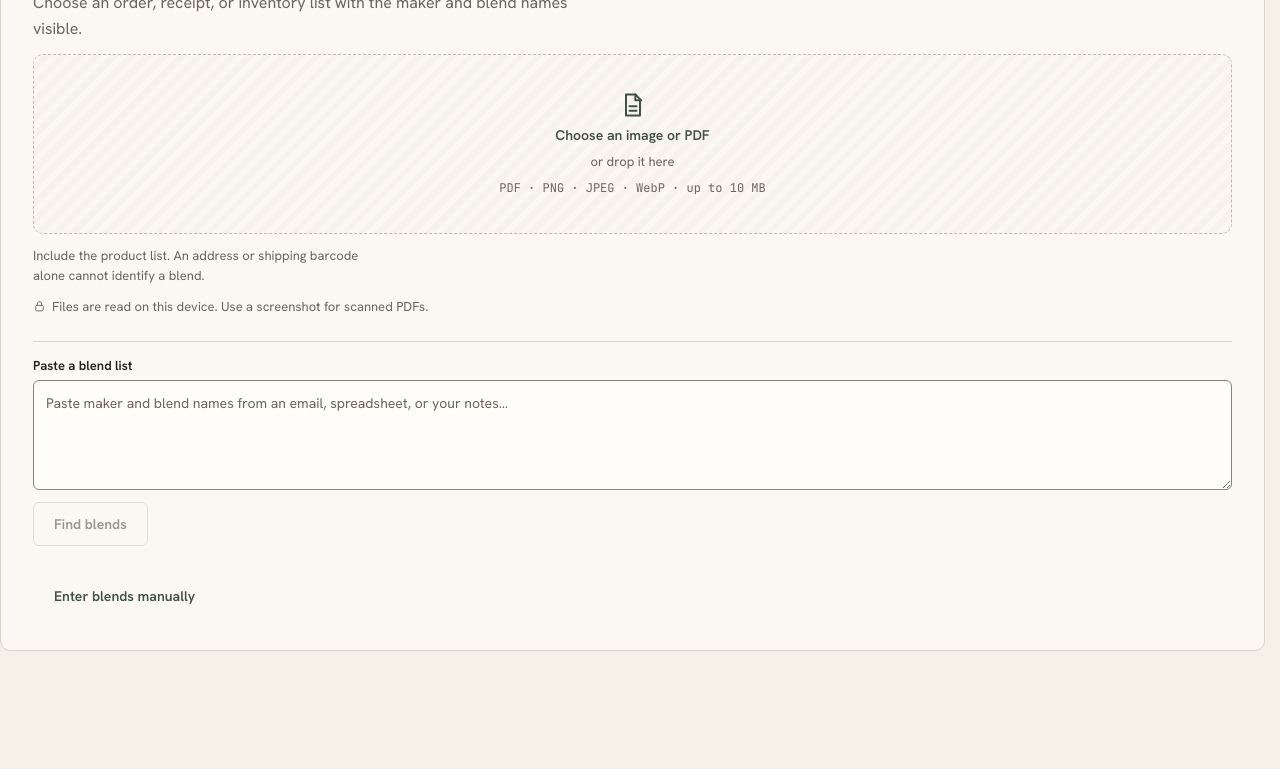
Scenario: opens standalone intake immediately and keeps missing custom names in review until Save
Check: the button "Choose an image or PDF" is shown, box [33, 54, 1232, 234]
Click the button "Enter blends manually": coordinates (125, 596) [33, 574, 216, 618]
(page scrolled)
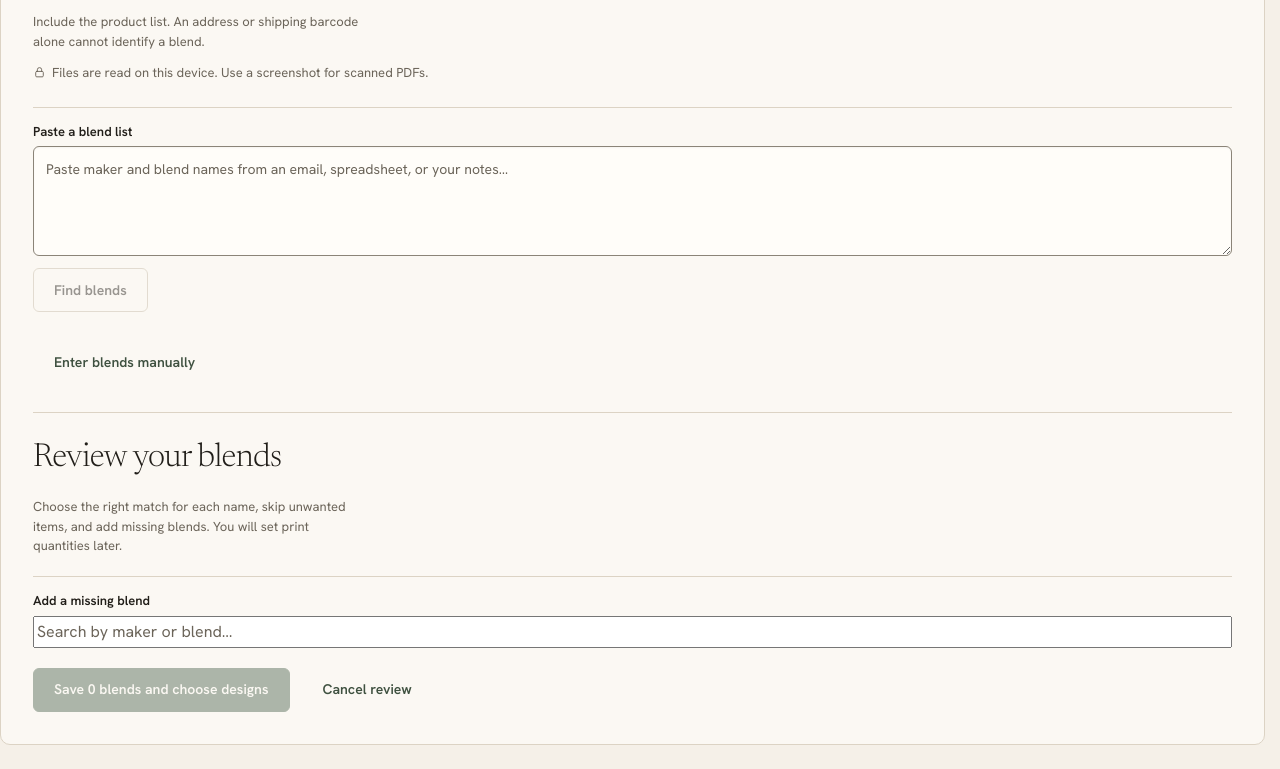
In the field labelled "Add a missing blend": coordinates (632, 632) [33, 616, 1232, 648], type "My cellar mixture"
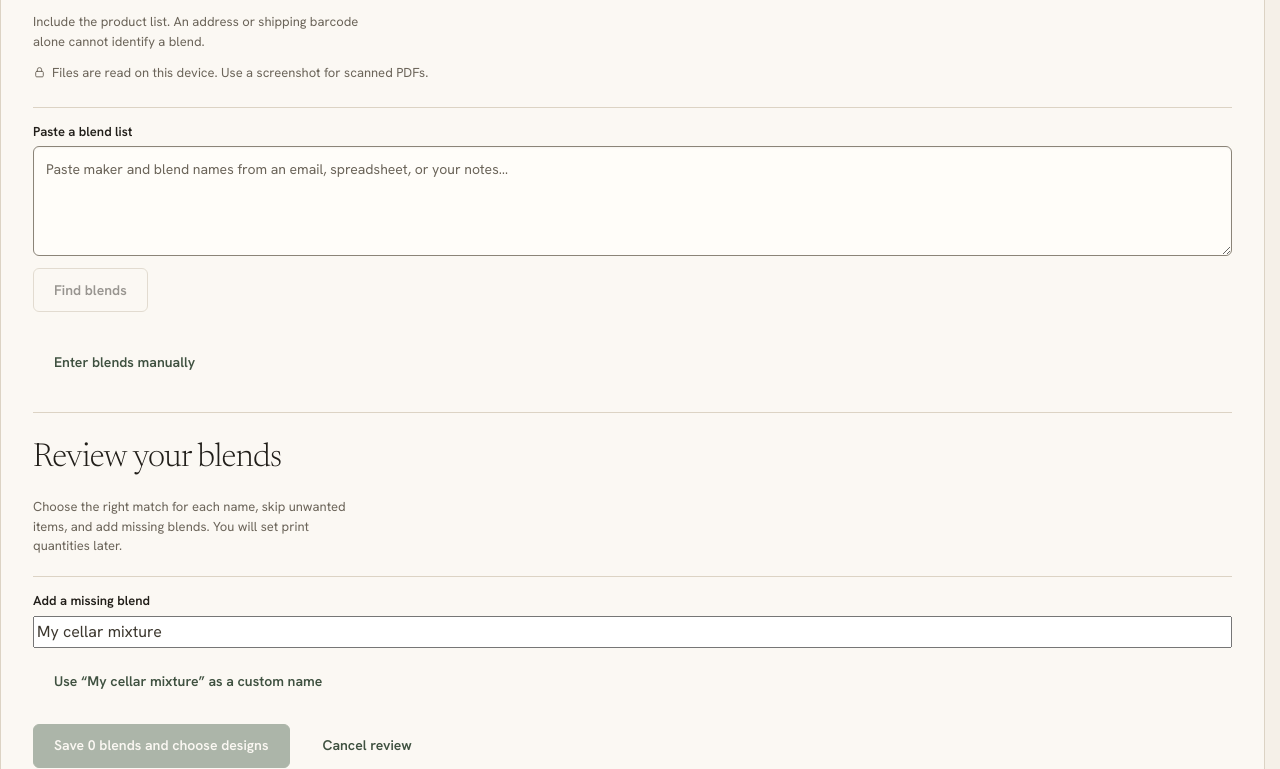
Click the button "Use “My cellar mixture” as a custom name": coordinates (188, 682) [33, 660, 343, 704]
(page scrolled)
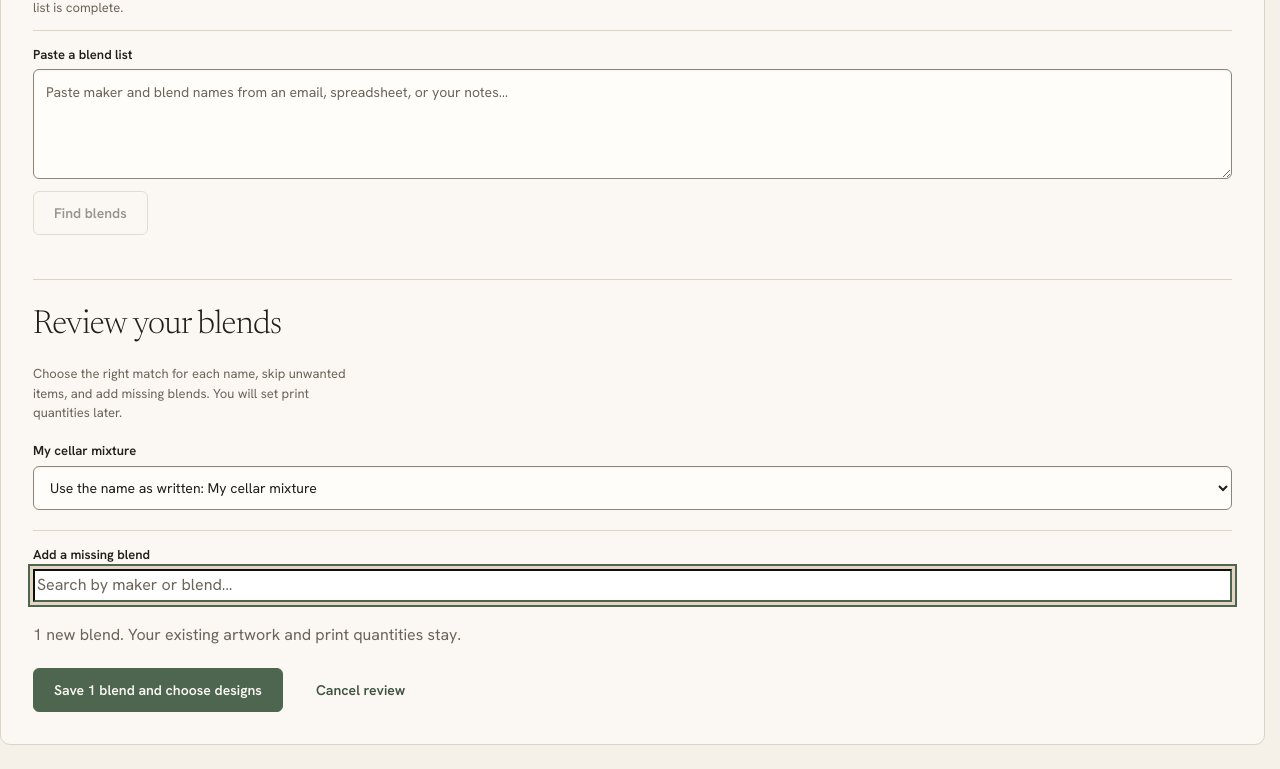
Check: the dropdown shows "Use the name as written: My cellar mixture", box [33, 466, 1232, 510]
Click the button "Save 1 blend and choose designs": coordinates (158, 690) [33, 668, 283, 712]
(page scrolled)
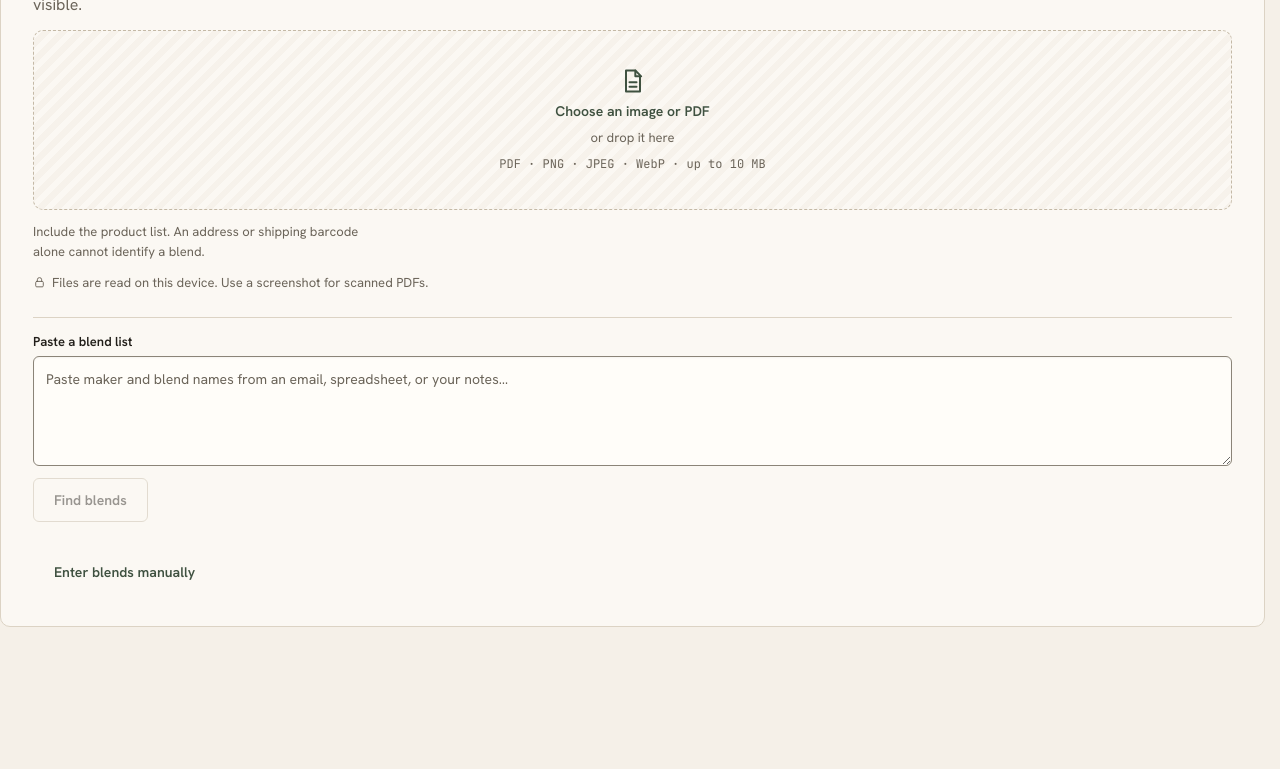
Check: the dropdown is gone
